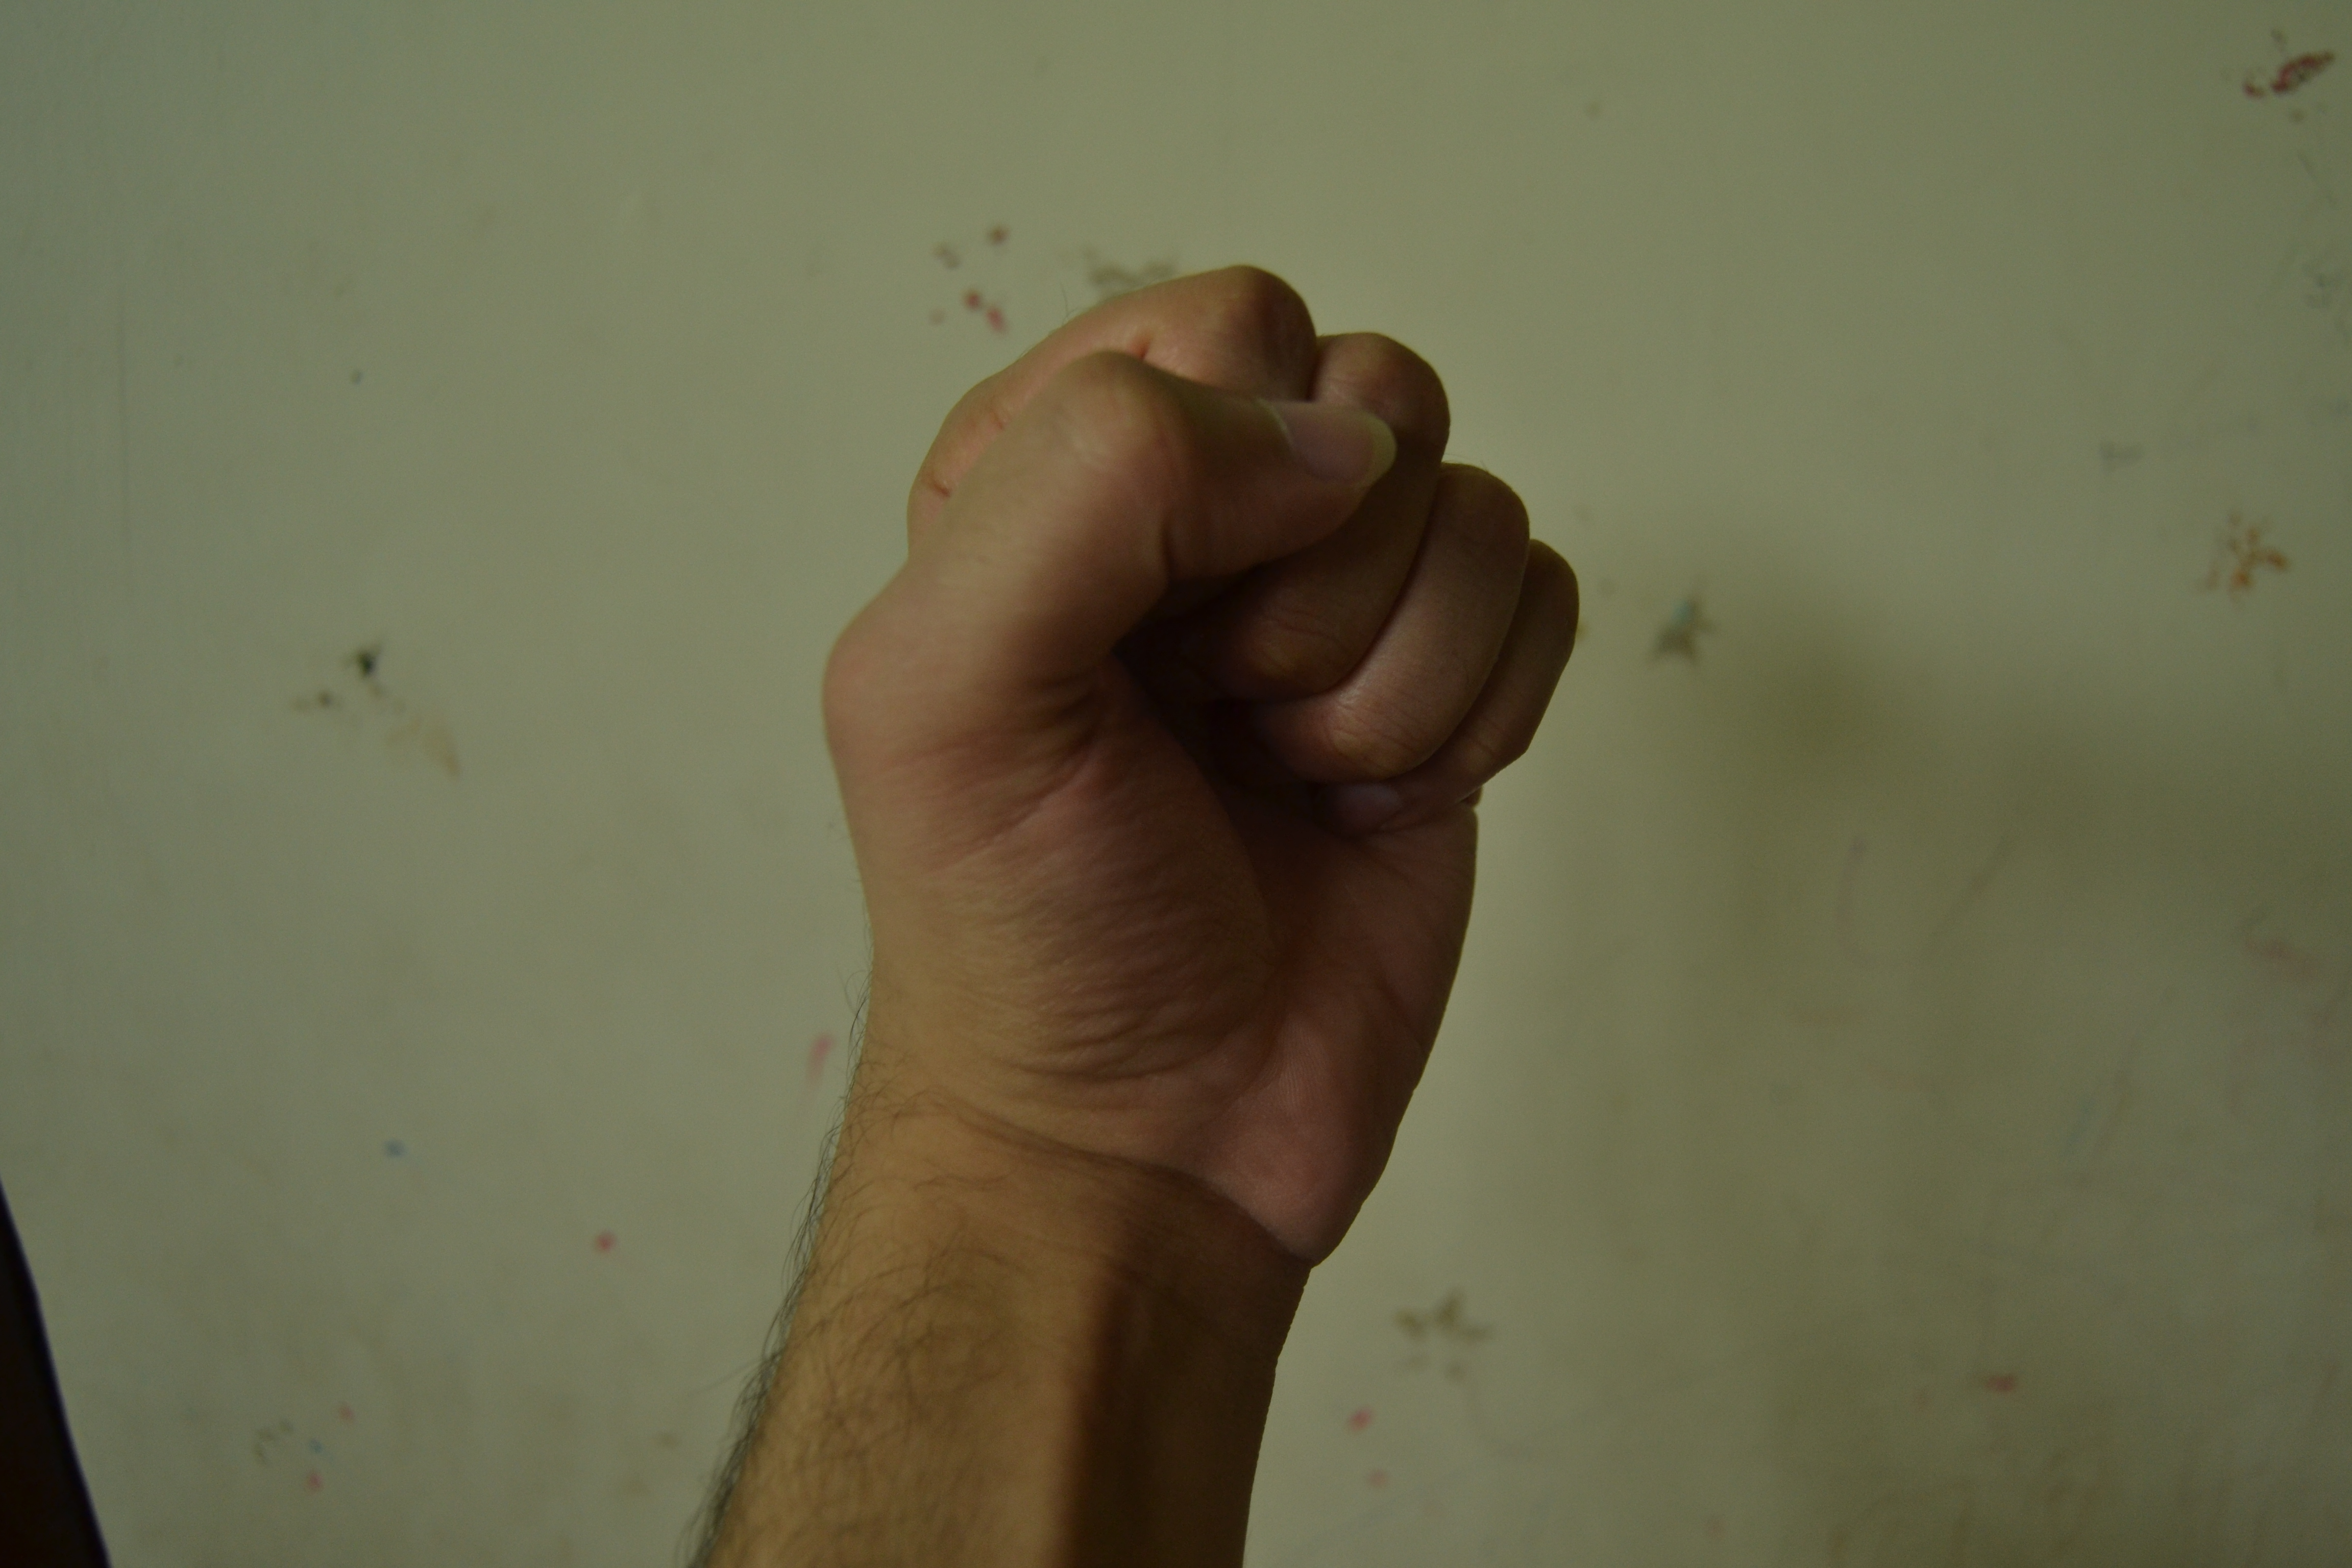click: (726, 243, 1631, 1379)
